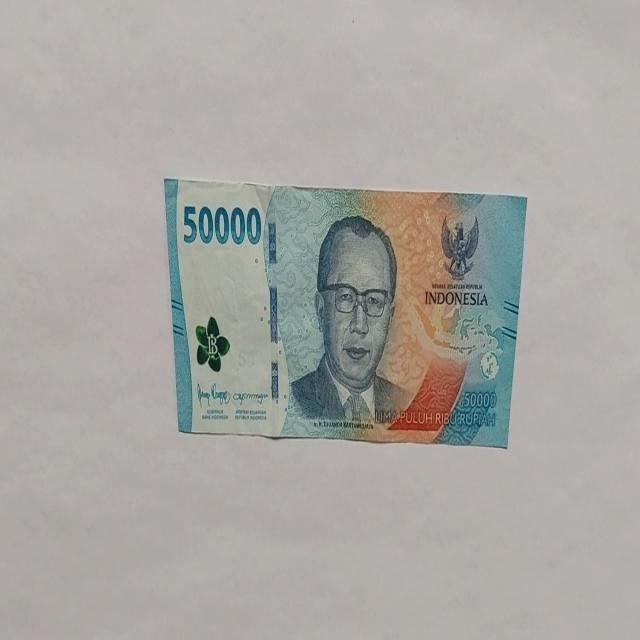lima puluh ribu rupiah: (162, 176, 528, 447), (283, 212, 413, 433)
